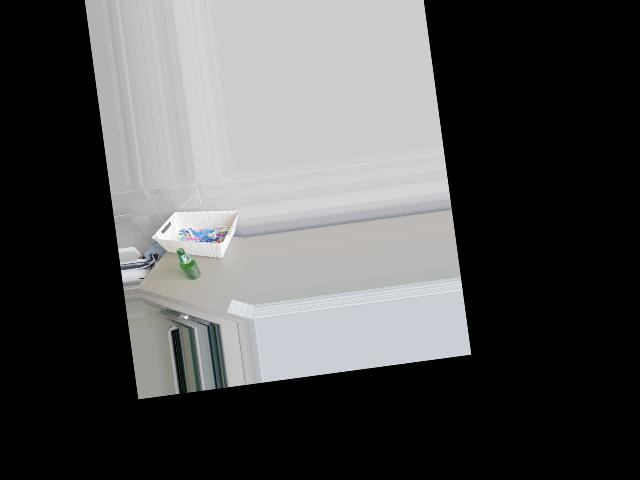beer: (176, 246, 201, 281)
